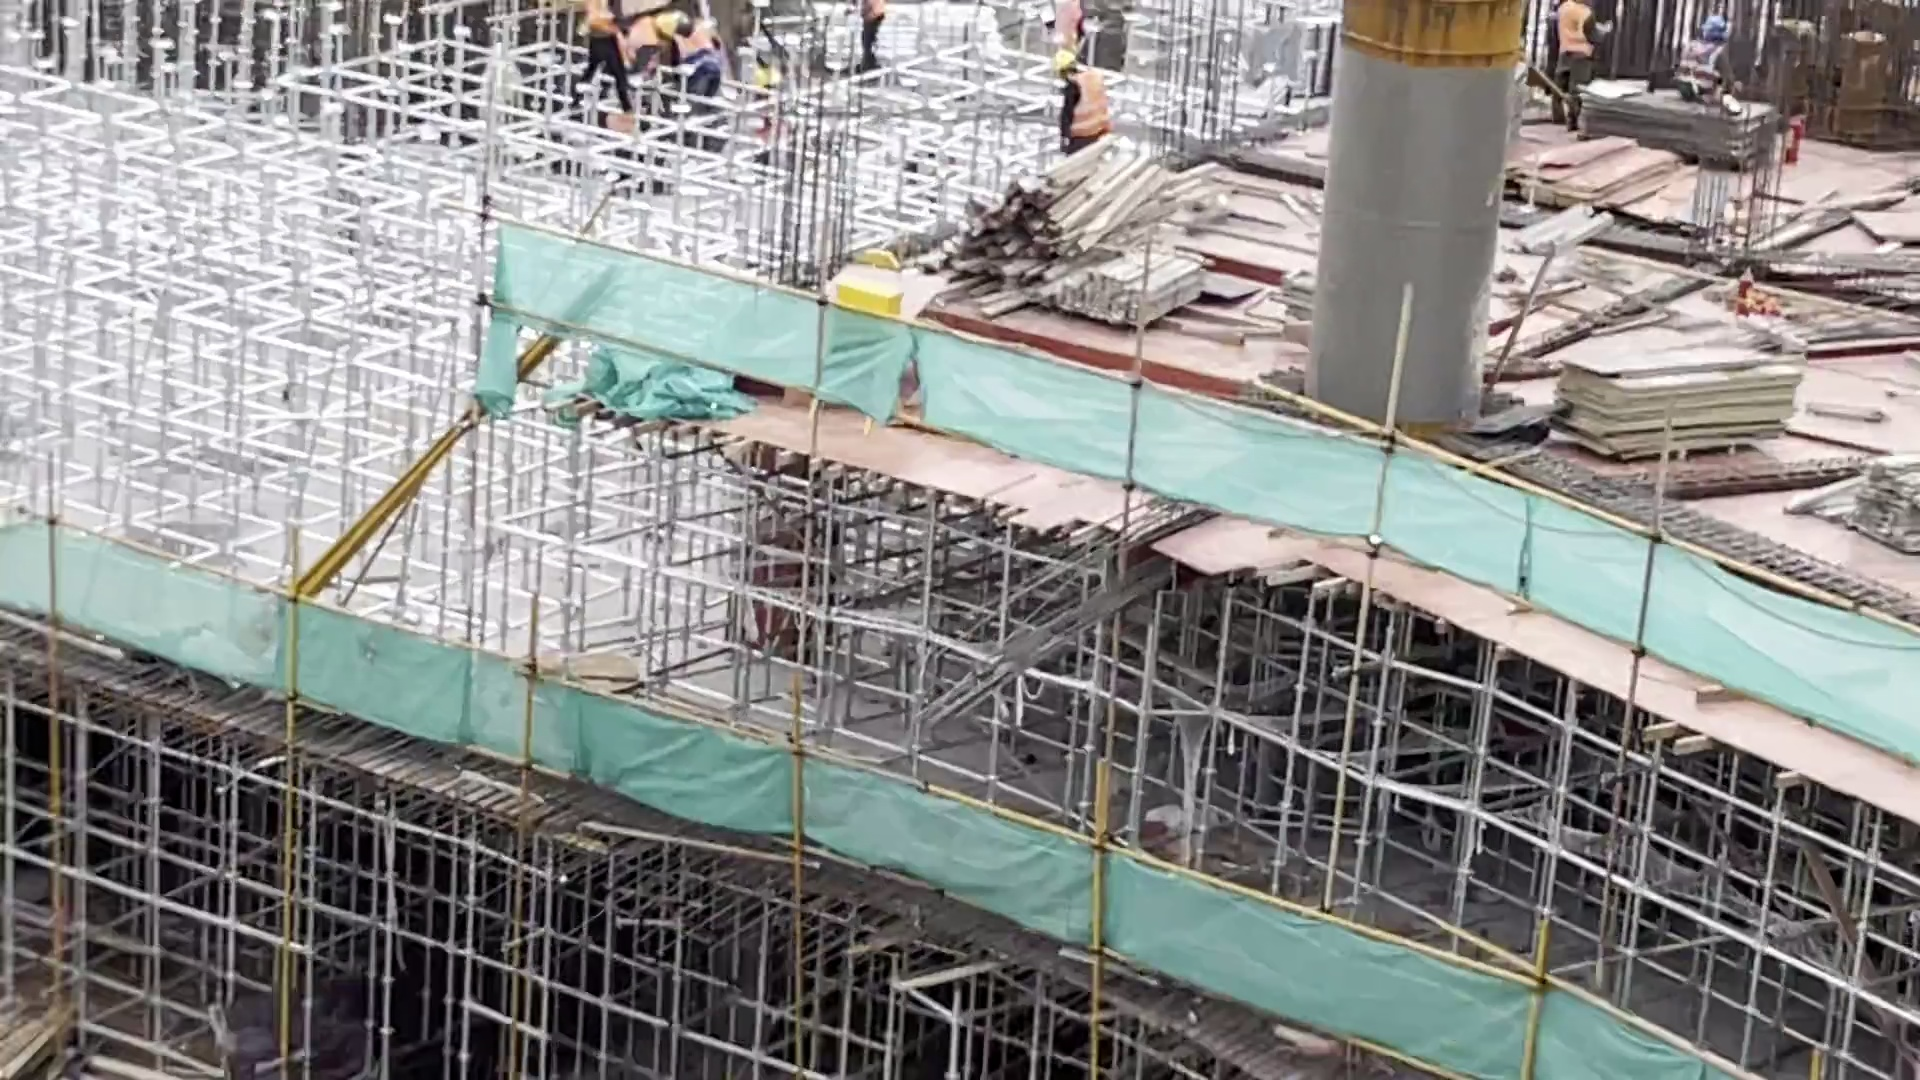board: (1549, 334, 1804, 466)
ebox: (829, 265, 904, 441)
helmet: (1053, 47, 1075, 70)
person: (1549, 1, 1606, 136), (1049, 48, 1113, 146), (581, 1, 633, 110), (1678, 12, 1735, 97), (680, 23, 724, 99), (851, 1, 888, 88), (635, 16, 669, 66)
vest: (1069, 72, 1114, 138)
wood: (940, 148, 1169, 316)
